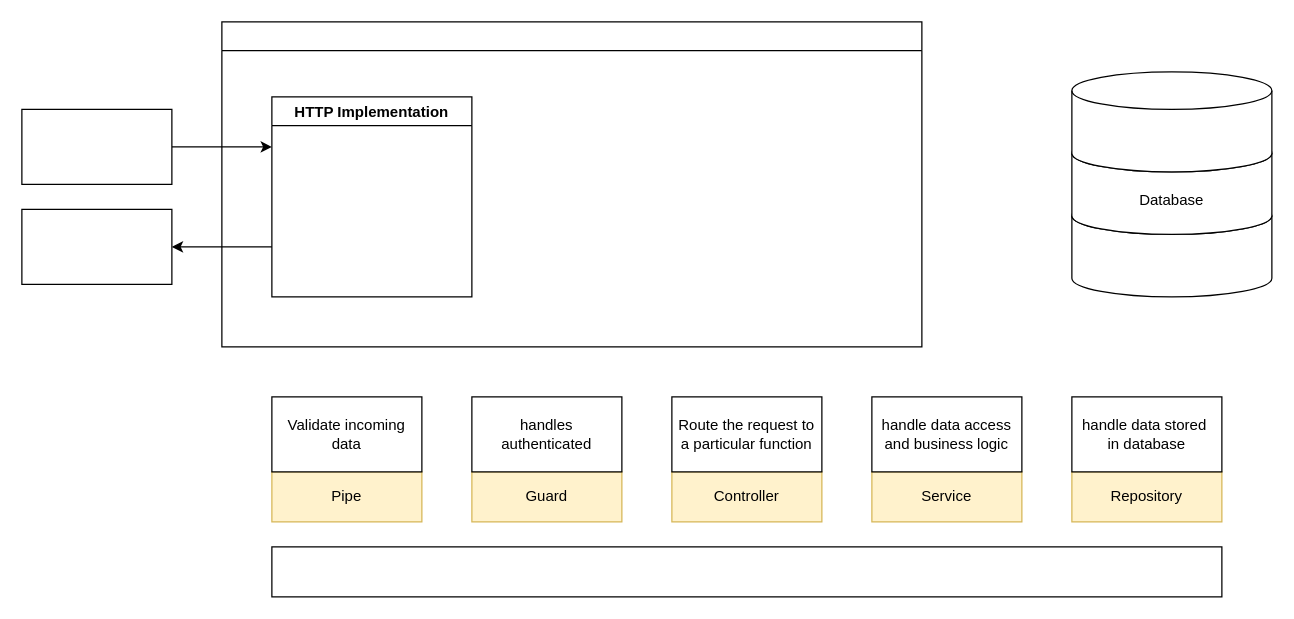
This 1294x619 diagram has some shape labels left out. The box of each missing label's shape, as (x1, y1, x2, y2) in pixels:
Module: (271, 546, 1222, 597)
Request: (21, 108, 172, 184)
Response: (21, 208, 172, 284)
Server Slide Application: (221, 21, 922, 347)
